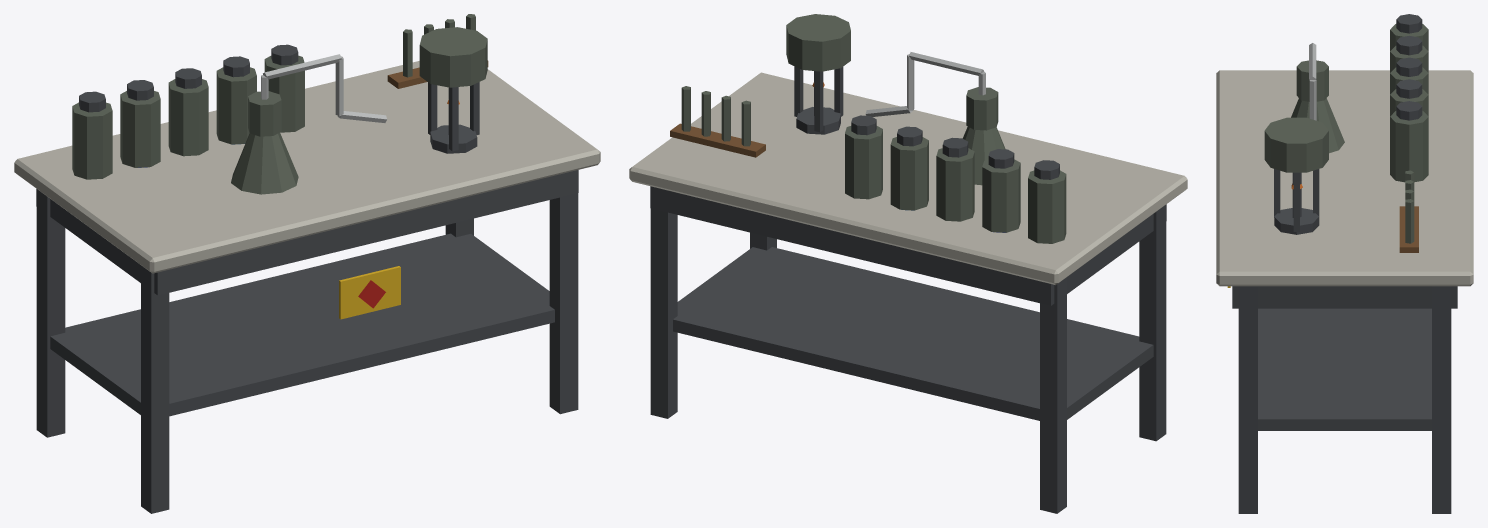
File: piece_chemlab.fbx
3 renders of one model, left to right at view 1: azimuth 30°, elevation 25°; view 2: azimuth 150°, elevation 25°; view 3: azimuth 270°, elevation 25°, orthographic. The views are drawn at different scales.
Parts seen in each view (by area): view 1: piece_chemlab; view 2: piece_chemlab; view 3: piece_chemlab.
Boxes of the visible parts, x1,y1,x2,y2 form: piece_chemlab: [14, 14, 600, 513]; piece_chemlab: [629, 14, 1187, 513]; piece_chemlab: [1216, 14, 1473, 513].
Size of the model in its own units: 1.5 by 1.19 by 0.8.
